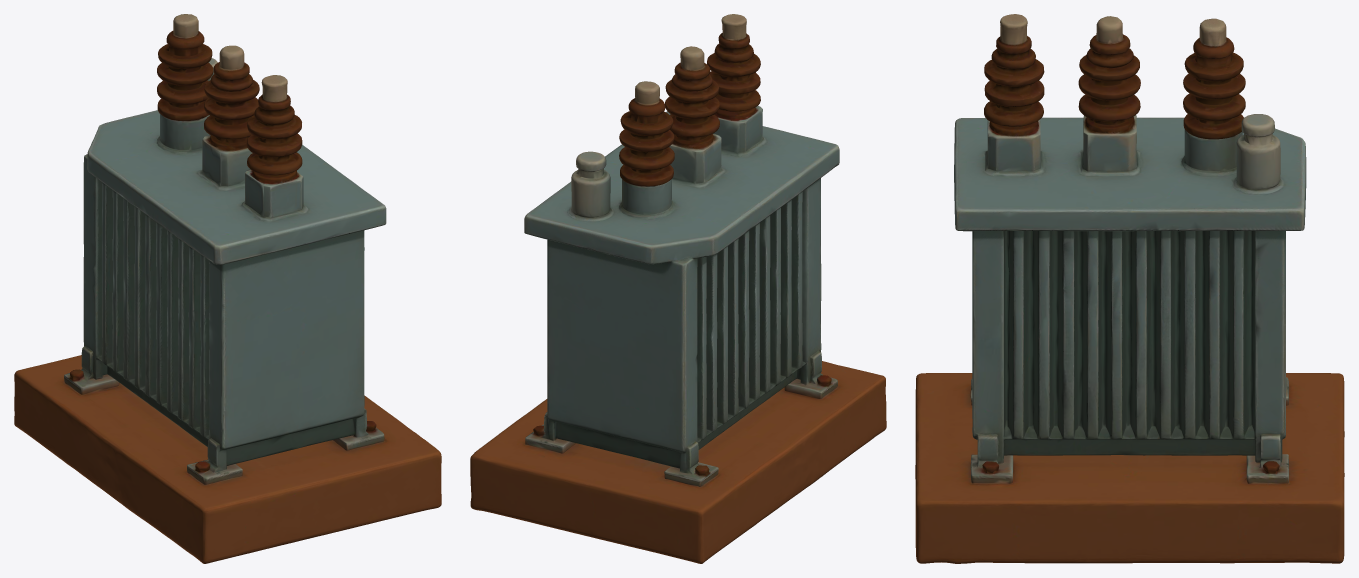
The model's file is powertrans3d.glb.
3 views of the same model, side by side, from view 1: azimuth 30°, elevation 25°; view 2: azimuth 150°, elevation 25°; view 3: azimuth 270°, elevation 25° (orthographic). The views are drawn at different scales.
Parts seen in each view (by area): view 1: tripo_node_c5d6110b-d165-43bc-b0f2-bb1ecae53956; view 2: tripo_node_c5d6110b-d165-43bc-b0f2-bb1ecae53956; view 3: tripo_node_c5d6110b-d165-43bc-b0f2-bb1ecae53956.
Part boxes in pixels (x1=…): tripo_node_c5d6110b-d165-43bc-b0f2-bb1ecae53956: x1=14, y1=14, x2=441, y2=563; tripo_node_c5d6110b-d165-43bc-b0f2-bb1ecae53956: x1=470, y1=14, x2=886, y2=563; tripo_node_c5d6110b-d165-43bc-b0f2-bb1ecae53956: x1=915, y1=14, x2=1344, y2=563.
Bounding box in the file's own units: 0.5911 × 1 × 0.8139.
1 material, 1 textured.
